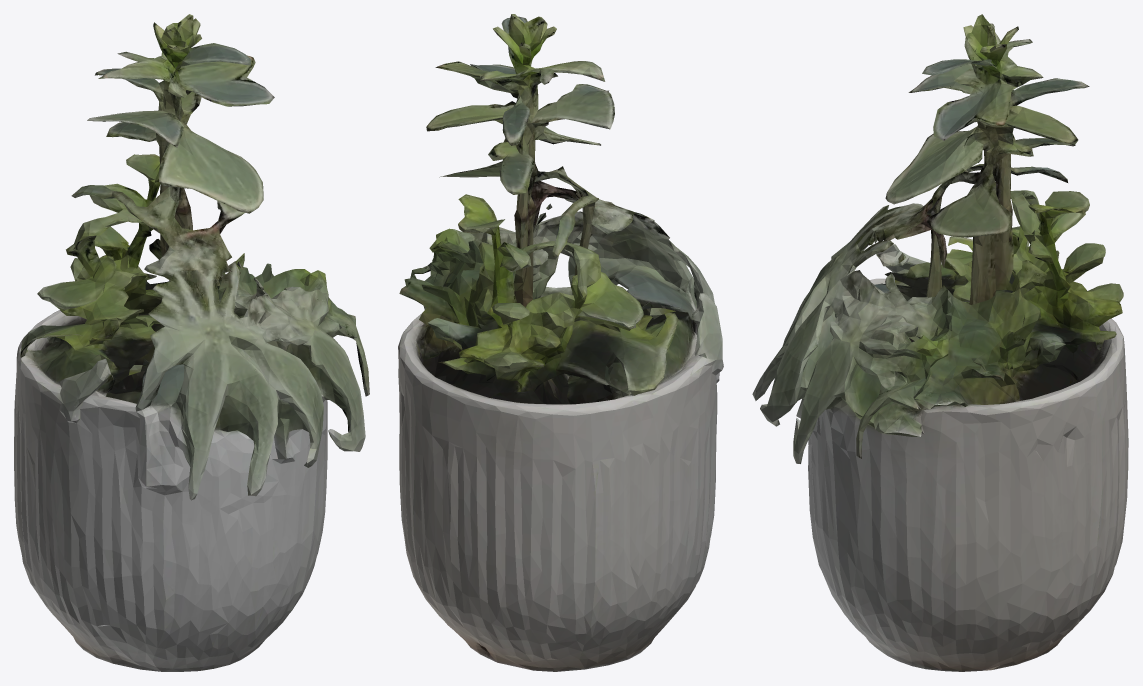
The model's file is ast_8016d7db99e3.glb.
The picture shows the model from 3 angles, left to right: view 1: azimuth 30°, elevation 25°; view 2: azimuth 150°, elevation 25°; view 3: azimuth 270°, elevation 25°; orthographic projection. The views are drawn at different scales.
Parts seen in each view (by area): view 1: geometry_0; view 2: geometry_0; view 3: geometry_0.
Boxes of the visible parts, x1=… form: geometry_0: x1=14, y1=14, x2=369, y2=671; geometry_0: x1=398, y1=14, x2=723, y2=671; geometry_0: x1=752, y1=14, x2=1128, y2=671.
Bounding box in the file's own units: 0.4035 × 0.7796 × 0.428.
Materials: 1 (1 with a texture image).
